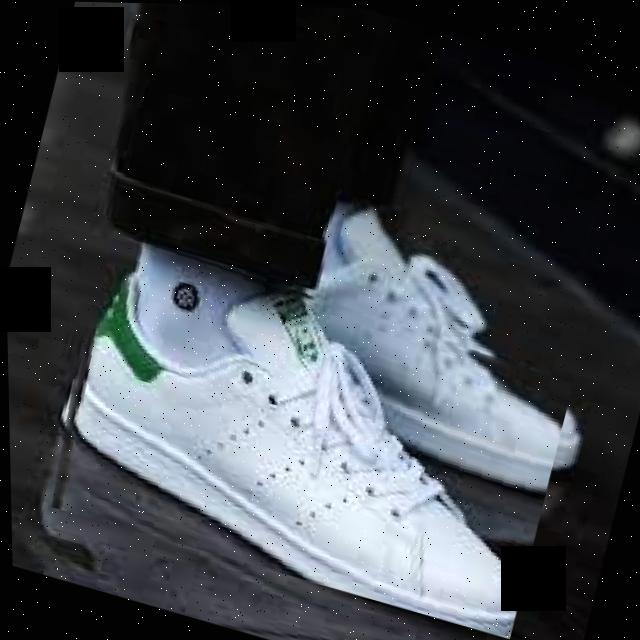shoe: (25, 222, 581, 638)
